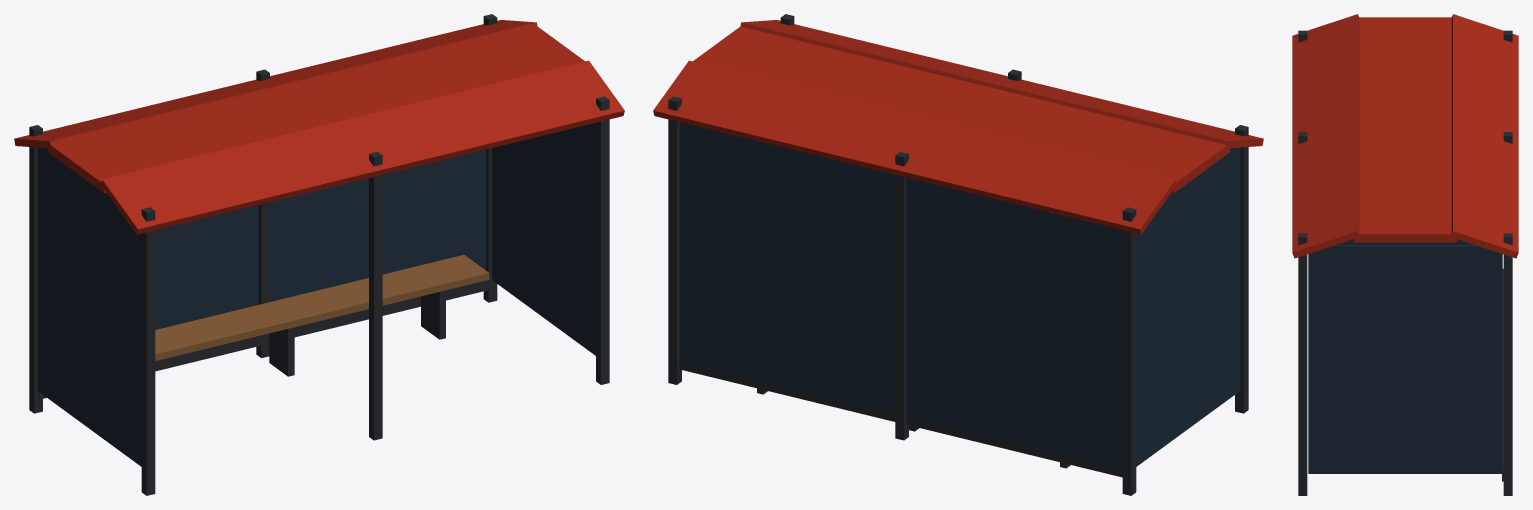
File: prop_platform-shelter.4306f323e301.glb
3 renders of one model, left to right at view 1: azimuth 30°, elevation 25°; view 2: azimuth 150°, elevation 25°; view 3: azimuth 270°, elevation 25°, orthographic. The views are drawn at different scales.
Parts seen in each view (by area): view 1: body; view 2: body; view 3: body.
Boxes of the visible parts, x1,y1,x2,y2 form: body: (14, 14, 624, 495); body: (653, 14, 1263, 495); body: (1292, 14, 1518, 495).
Size of the model in its own units: 4.5 by 2.61 by 1.98.
